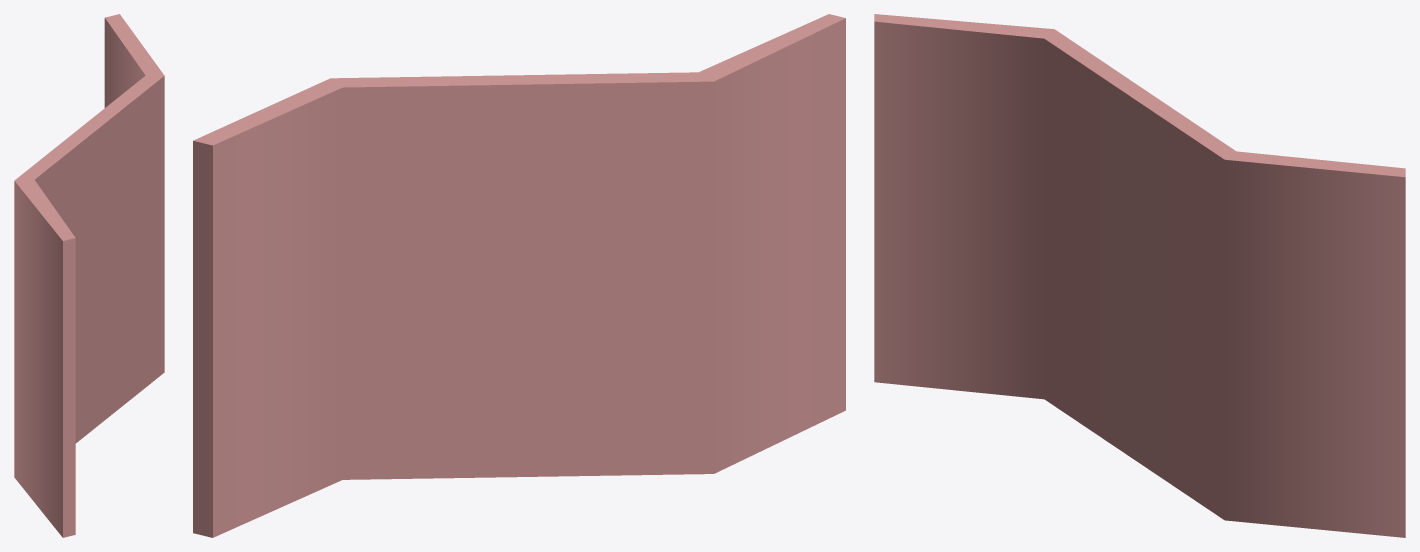
File: Fence_B_B_COL.fbx
3 views of the same model, side by side, from view 1: azimuth 30°, elevation 25°; view 2: azimuth 150°, elevation 25°; view 3: azimuth 270°, elevation 25° (orthographic). The views are drawn at different scales.
Parts seen in each view (by area): view 1: Fence_B_B_COL; view 2: Fence_B_B_COL; view 3: Fence_B_B_COL.
Boxes of the visible parts, bbox=[...] form: Fence_B_B_COL: bbox=[14, 14, 164, 537]; Fence_B_B_COL: bbox=[193, 14, 845, 537]; Fence_B_B_COL: bbox=[874, 14, 1405, 537].
Bounding box in the file's own units: 211 × 217 × 289.
